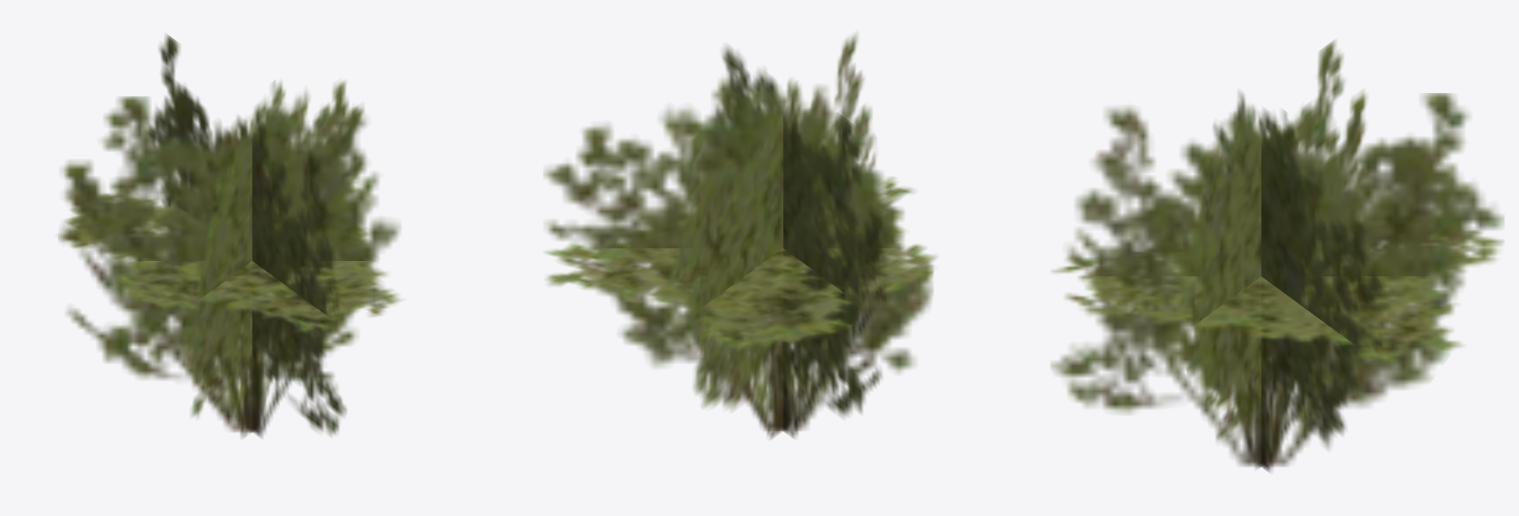
Rendered from tbush3_far.glb.
3 views of the same model, side by side, from view 1: azimuth 30°, elevation 25°; view 2: azimuth 150°, elevation 25°; view 3: azimuth 270°, elevation 25° (orthographic). The views are drawn at different scales.
Visible parts, largest first — view 1: prefab; view 2: prefab; view 3: prefab.
Boxes of the visible parts, <box> form: prefab: <box>58,34,400,437</box>; prefab: <box>544,34,936,438</box>; prefab: <box>1051,40,1503,472</box>.
Bounding box in the file's own units: 1.88 × 1.92 × 2.11.
Materials: 1 (1 with a texture image).
